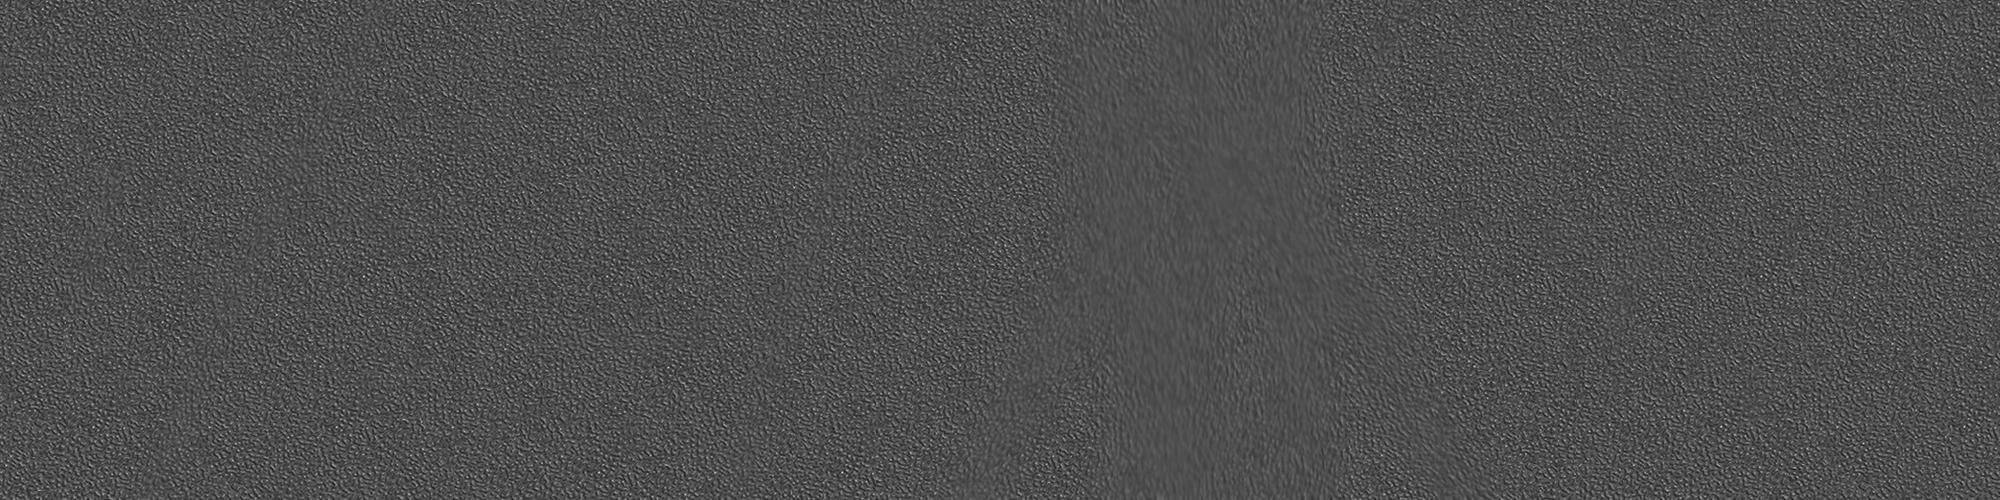Flow_Lines: (980, 15, 1353, 495)
